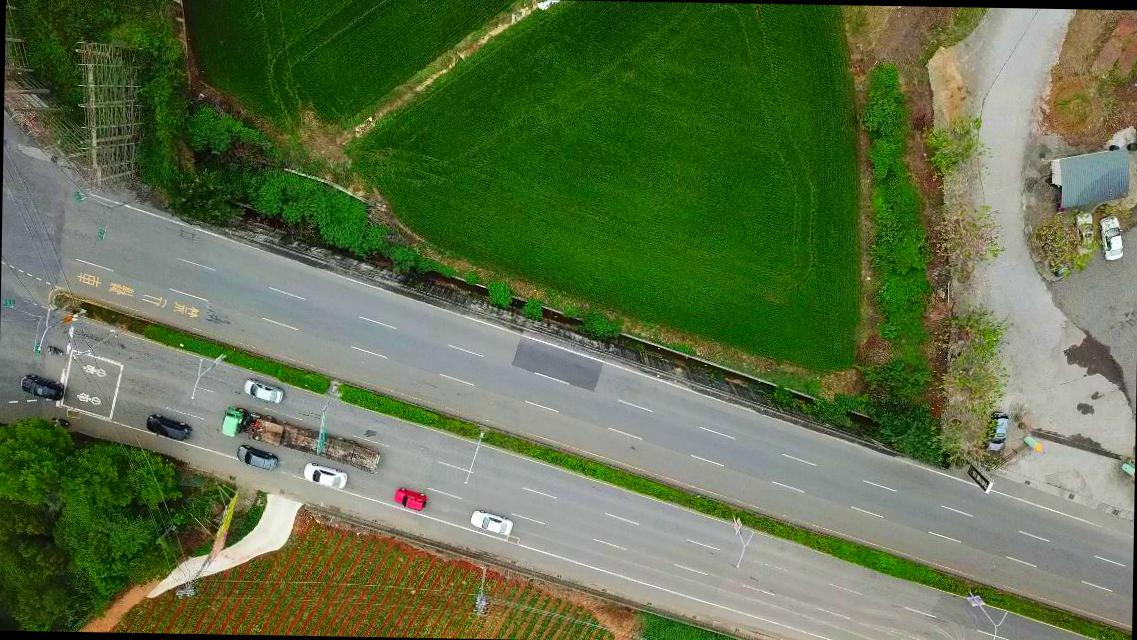vehicle: (1042, 226, 1070, 278), (300, 462, 348, 491), (980, 409, 1010, 454), (236, 443, 282, 472), (20, 372, 63, 402), (470, 510, 514, 539), (145, 414, 193, 440), (242, 379, 284, 406), (1100, 214, 1123, 262), (1072, 210, 1094, 258), (392, 487, 429, 512)
